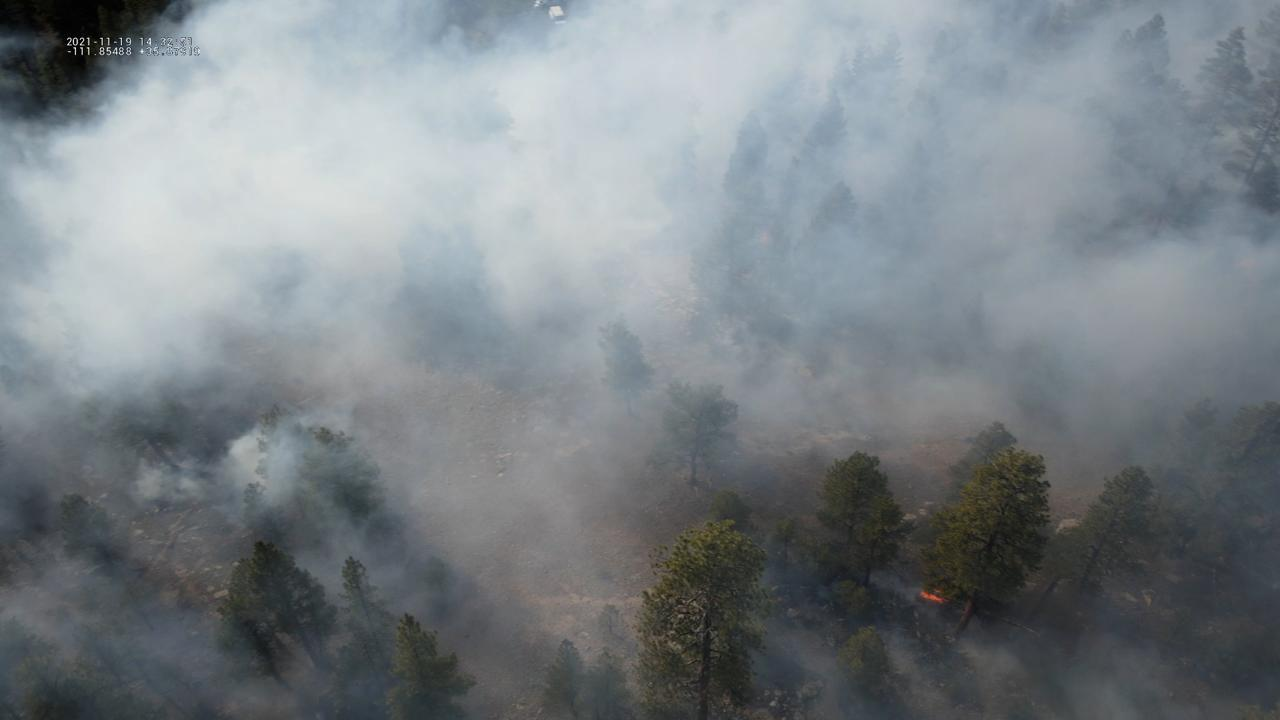fire: (919, 589, 947, 604)
smoke: (0, 0, 1280, 720)
